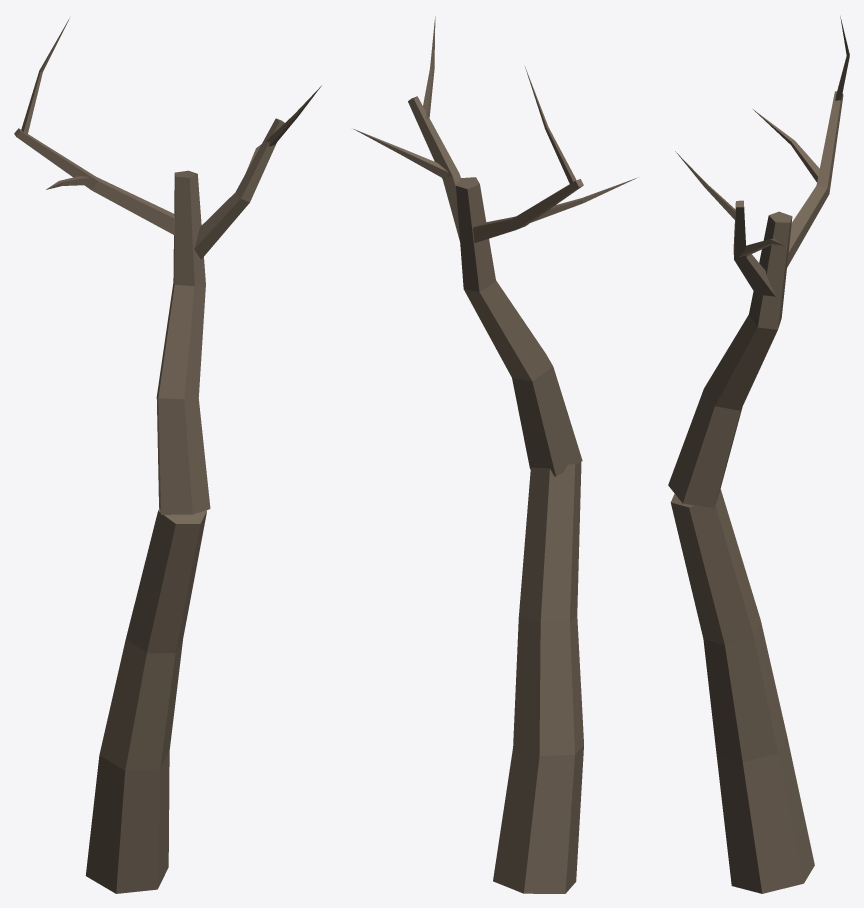
File: Tree_Dead_C.glb
3 views of the same model, side by side, from view 1: azimuth 30°, elevation 25°; view 2: azimuth 150°, elevation 25°; view 3: azimuth 270°, elevation 25° (orthographic).
Parts seen in each view (by area): view 1: Tree_Dead_C; view 2: Tree_Dead_C; view 3: Tree_Dead_C.
Part boxes in pixels (x1,y1,x2,y2): Tree_Dead_C: (14, 18, 321, 893); Tree_Dead_C: (353, 16, 637, 893); Tree_Dead_C: (668, 16, 849, 893).
Size of the model in its own units: 1.45 by 4.33 by 0.8337.
